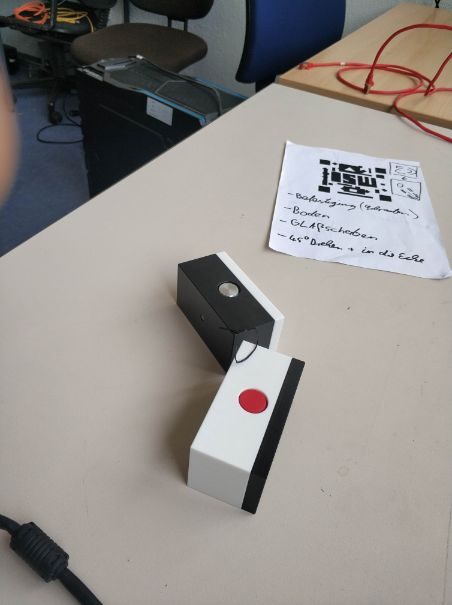black+white+red: (184, 341, 305, 516)
white+black+silver: (176, 249, 286, 373)
